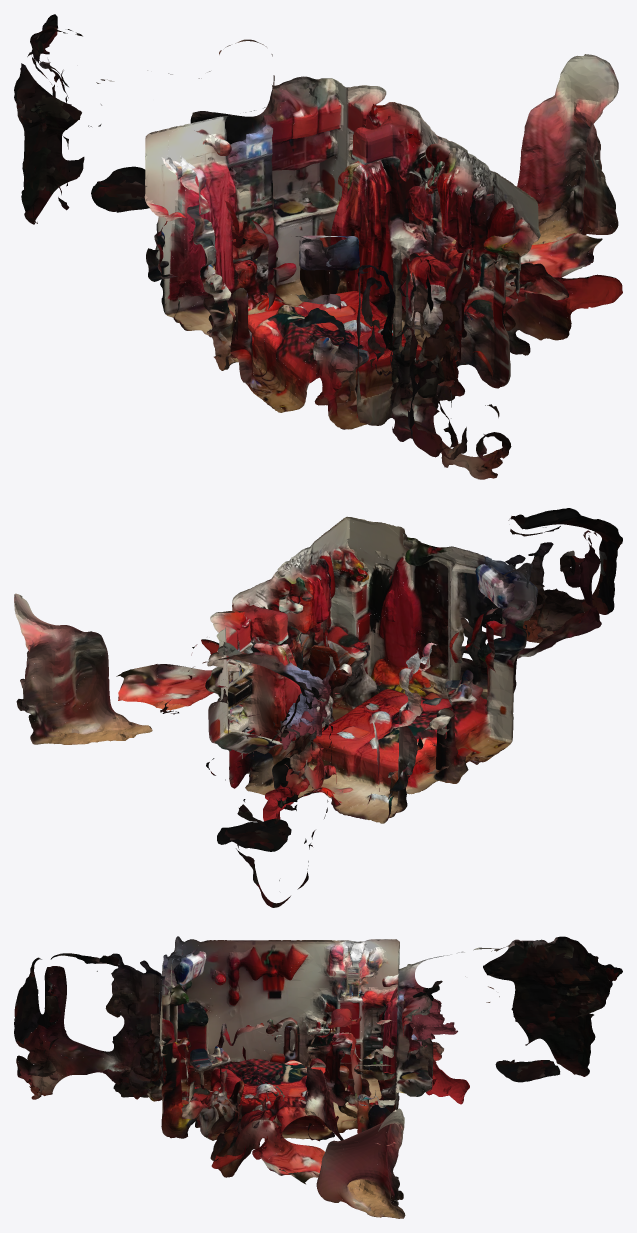
File: 4_7_2026_chevaleret.glb
3 views of the same model, one above another, from view 1: azimuth 30°, elevation 25°; view 2: azimuth 150°, elevation 25°; view 3: azimuth 270°, elevation 25° (orthographic). The views are drawn at different scales.
Bounding box in the file's own units: 6.52 × 2.67 × 10.37.
3 materials, 3 textured.
